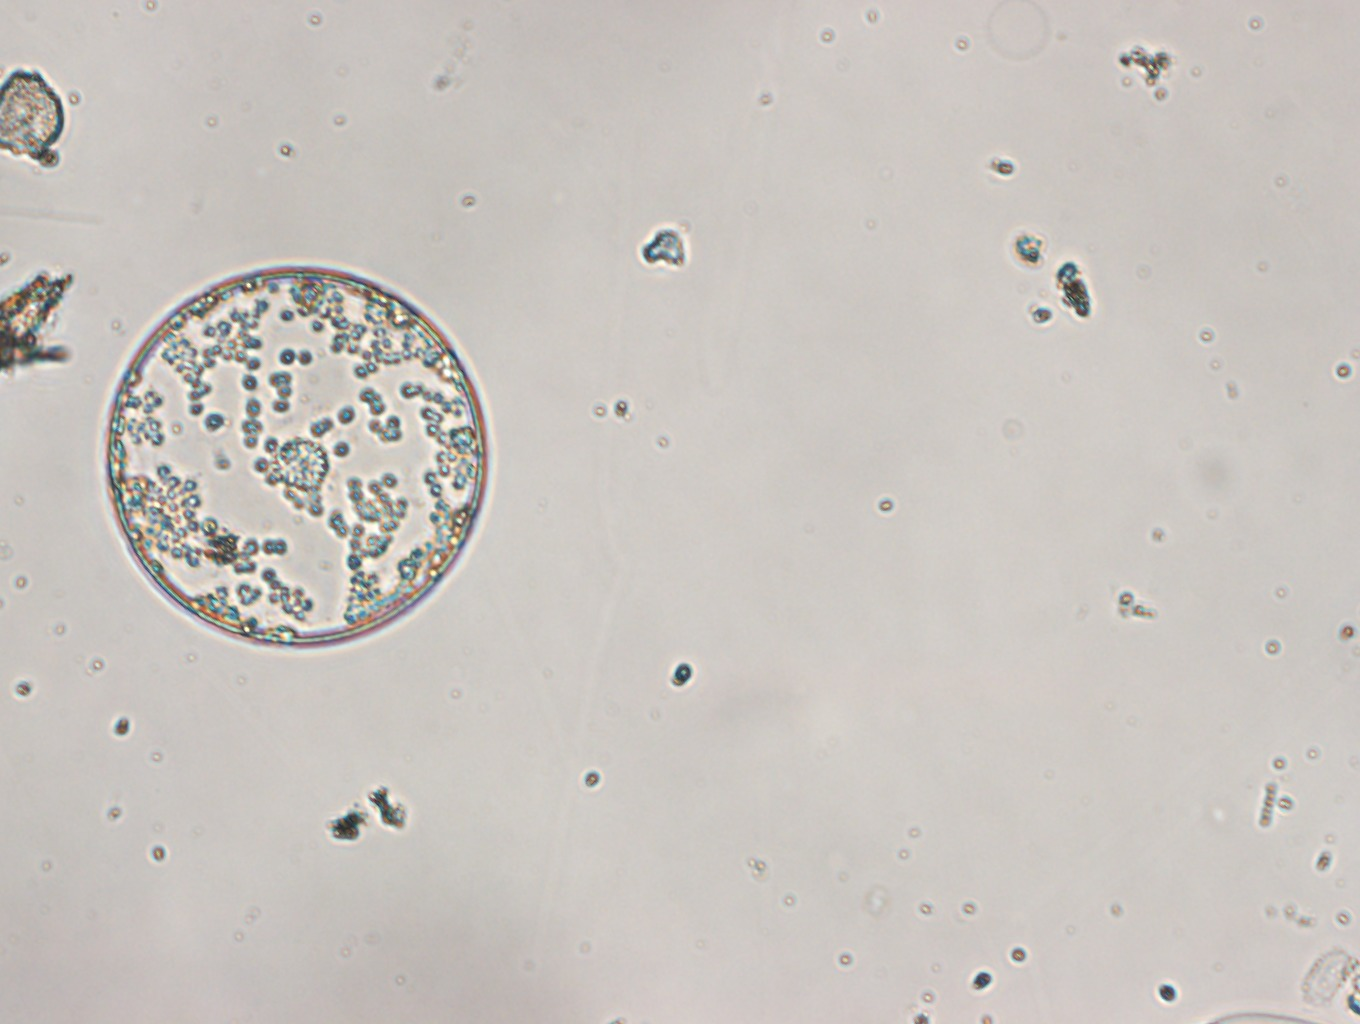coscinodiscus: (96, 260, 496, 653)
